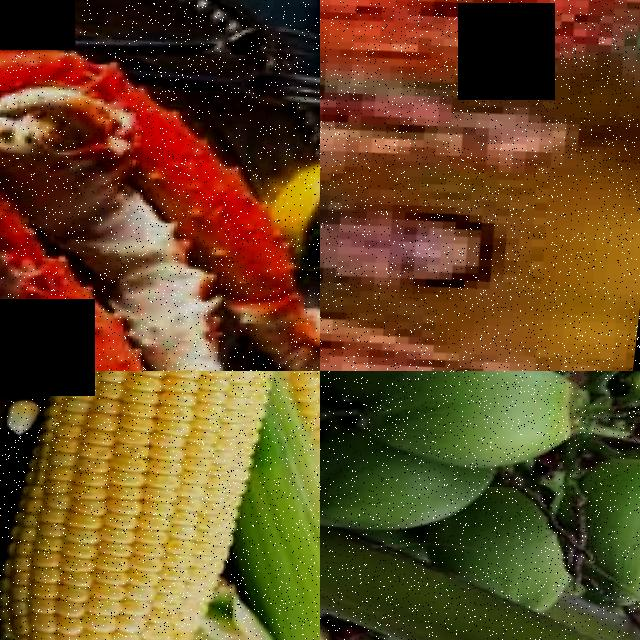coconut: (360, 371, 599, 469), (320, 434, 468, 538), (575, 444, 640, 608)
corn: (0, 371, 279, 640), (246, 371, 320, 640)
crab: (0, 38, 310, 371)
